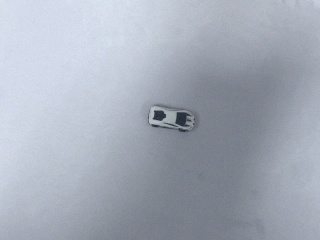toy_car: (148, 105, 195, 131)
